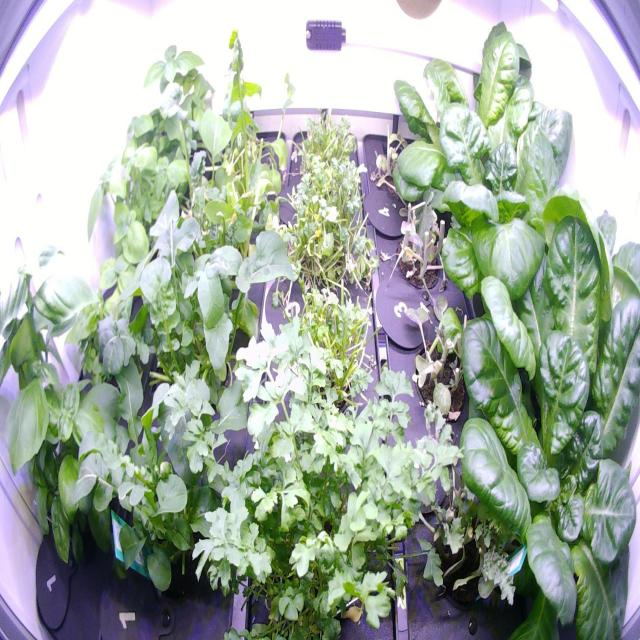Ready: (445, 215, 638, 636), (432, 188, 638, 397), (417, 89, 605, 298), (372, 11, 558, 218)
